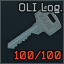OLI logistics department office key: (0, 0, 64, 64)
